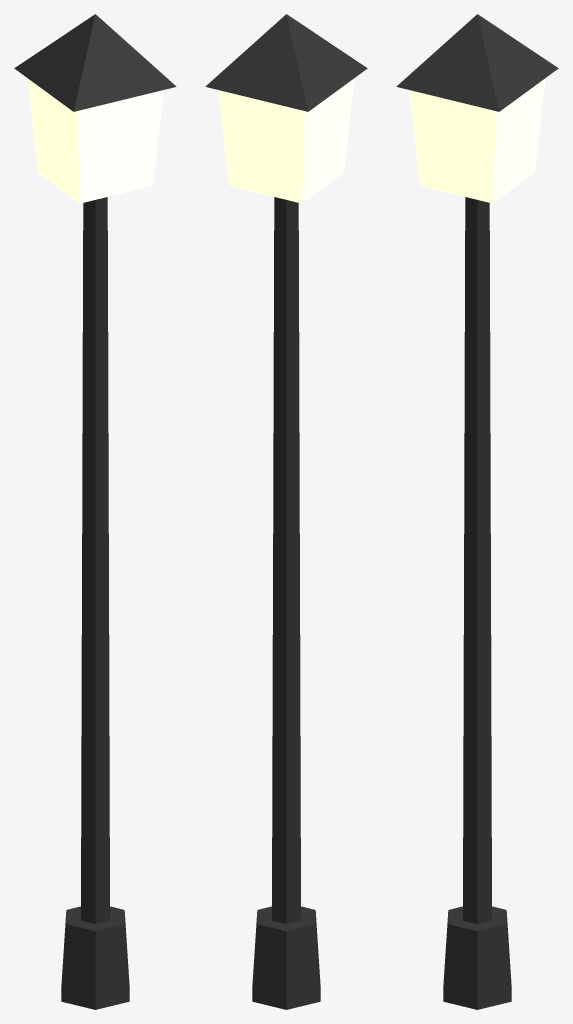
Rendered from Prop_StreetLamp.fbx.
3 renders of one model, left to right at view 1: azimuth 30°, elevation 25°; view 2: azimuth 150°, elevation 25°; view 3: azimuth 330°, elevation 25°, orthographic.
Parts seen in each view (by area): view 1: Prop_StreetLamp; view 2: Prop_StreetLamp; view 3: Prop_StreetLamp.
Part boxes in pixels (x1,y1,x2,y2): Prop_StreetLamp: (14, 14, 176, 1009); Prop_StreetLamp: (205, 14, 367, 1009); Prop_StreetLamp: (396, 14, 558, 1009).
Size of the model in its own units: 0.4243 by 3.85 by 0.4243.
